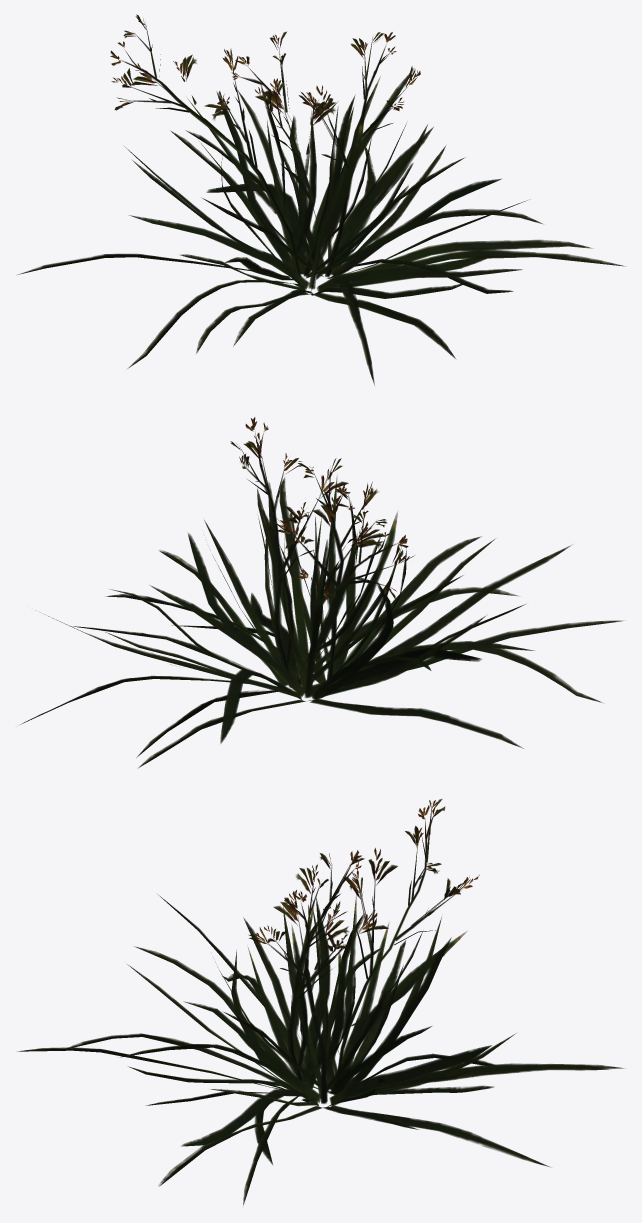
The model's file is veg-75.glb.
The picture shows the model from 3 angles, top to bottom: view 1: azimuth 30°, elevation 25°; view 2: azimuth 150°, elevation 25°; view 3: azimuth 270°, elevation 25°; orthographic projection. The views are drawn at different scales.
Parts seen in each view (by area): view 1: _og7y_VarD_LOD1_75; view 2: _og7y_VarD_LOD1_75; view 3: _og7y_VarD_LOD1_75.
Part boxes in pixels (x1,y1,x2,y2): _og7y_VarD_LOD1_75: (16,14,625,385); _og7y_VarD_LOD1_75: (20,417,623,767); _og7y_VarD_LOD1_75: (17,799,624,1205).
Size of the model in its own units: 0.6008 by 0.2914 by 0.6576.
Materials: 1 (1 with a texture image).
